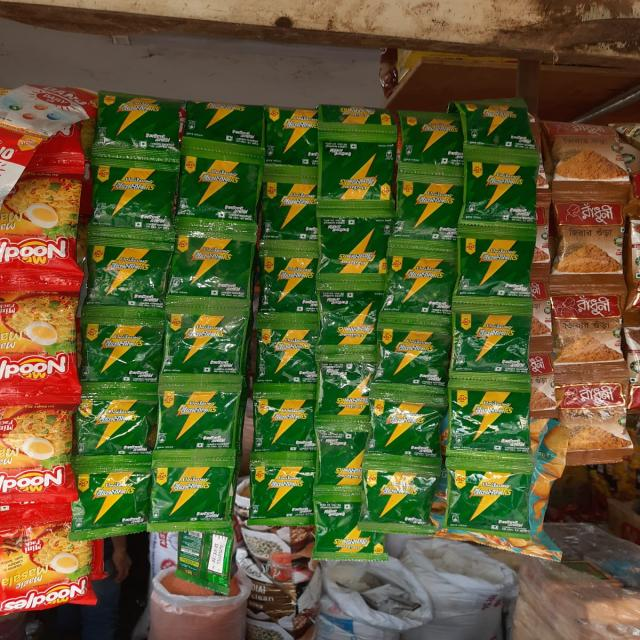ubl: (86, 158, 180, 242), (173, 151, 264, 232), (68, 459, 155, 542), (91, 90, 187, 164), (164, 232, 258, 304), (444, 461, 529, 536), (145, 462, 236, 532), (314, 214, 395, 292), (451, 388, 536, 462), (150, 388, 243, 455), (314, 136, 398, 210), (81, 240, 175, 305), (357, 465, 441, 536), (158, 315, 250, 379), (78, 317, 168, 382), (70, 394, 158, 460), (453, 230, 534, 301), (460, 158, 538, 231), (181, 99, 268, 162), (306, 489, 381, 560), (380, 243, 455, 314), (447, 320, 532, 382), (452, 97, 535, 160), (372, 332, 453, 396), (364, 399, 443, 464), (313, 286, 384, 354), (246, 459, 319, 525), (259, 174, 322, 249), (390, 175, 456, 243), (397, 109, 462, 178), (246, 398, 318, 457), (263, 105, 324, 173), (258, 252, 323, 314), (311, 425, 371, 491), (252, 334, 326, 387), (312, 364, 378, 417)
